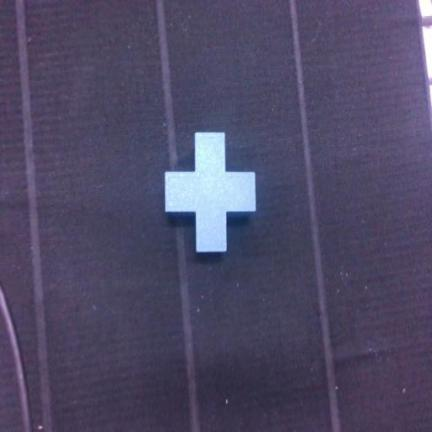cross: (166, 133, 255, 252)
